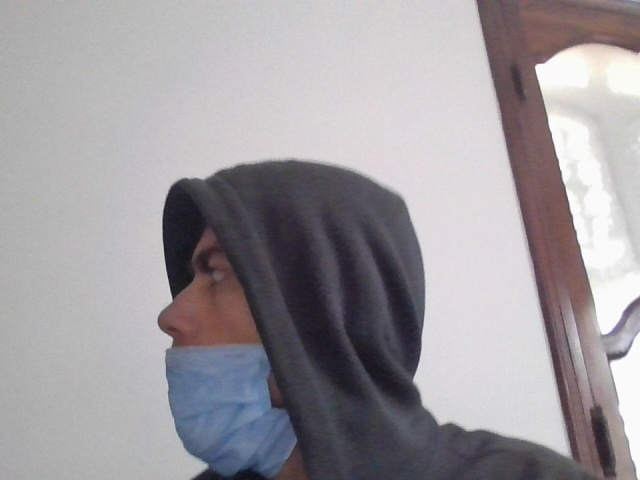mask_weared_incorrect: (147, 196, 325, 478)
